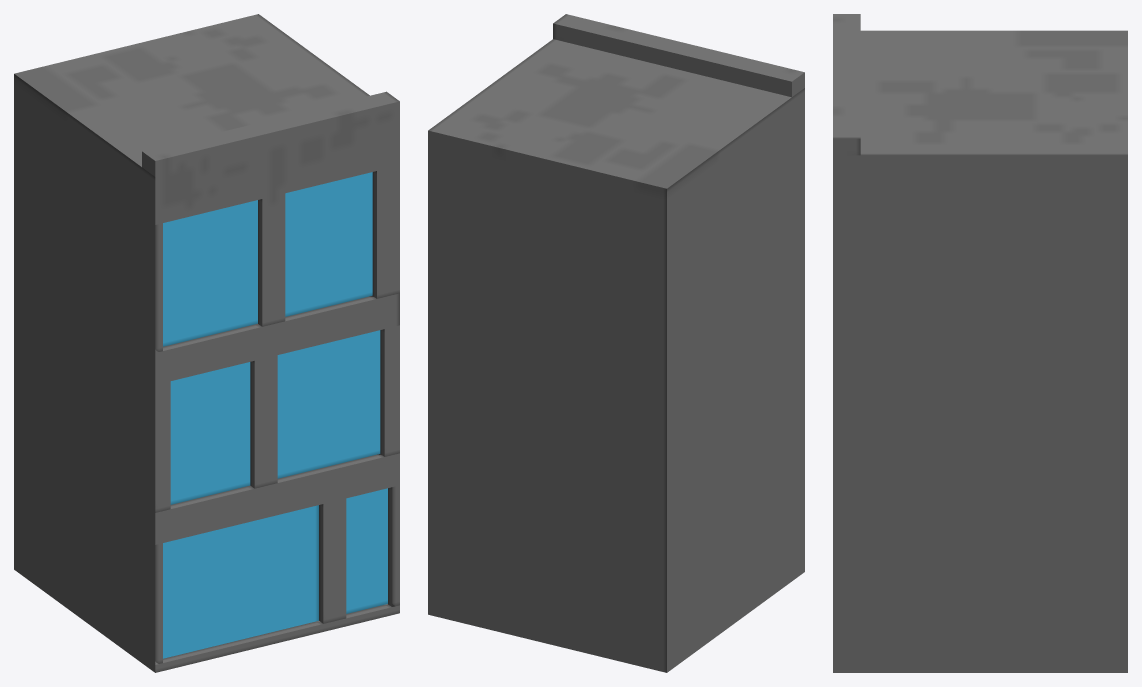
The model's file is budynek_okna_typ1.dae.
3 views of the same model, side by side, from view 1: azimuth 30°, elevation 25°; view 2: azimuth 150°, elevation 25°; view 3: azimuth 270°, elevation 25° (orthographic). The views are drawn at different scales.
Visible parts, largest first — view 1: Content; view 2: Content; view 3: Content.
Boxes of the visible parts, bbox=[...] form: Content: bbox=[14, 14, 399, 672]; Content: bbox=[428, 14, 804, 672]; Content: bbox=[833, 14, 1127, 672].
Size of the model in its own units: 32 by 64 by 32.
Materials: 1 (1 with a texture image).
